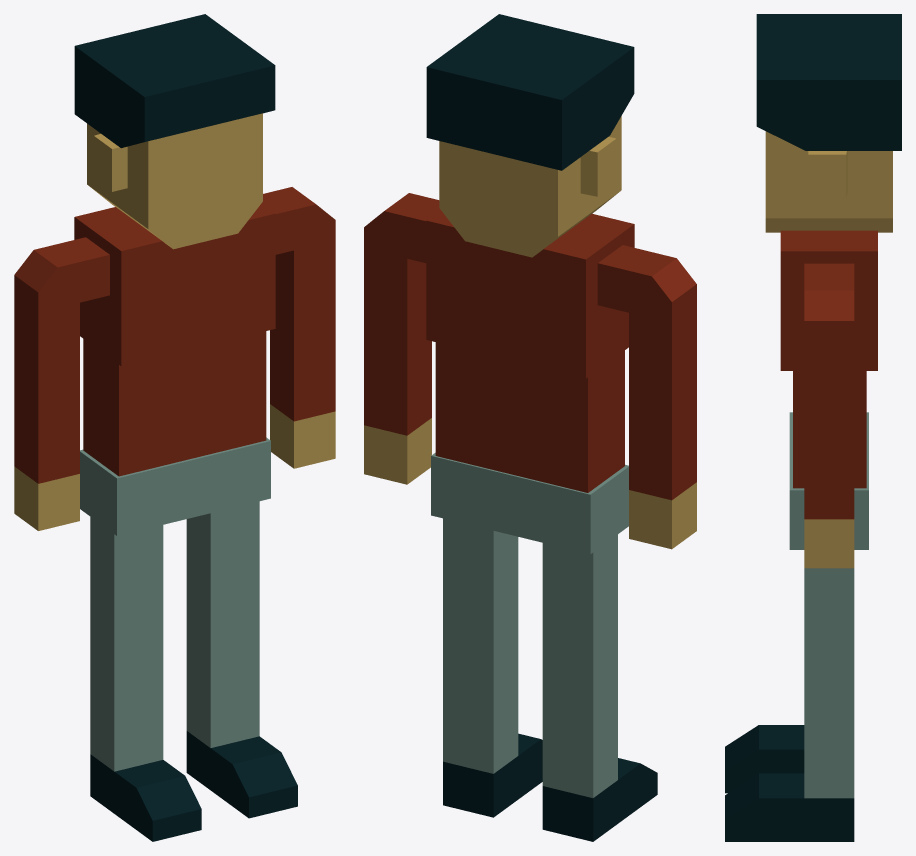
File: humanRig.fbx
3 renders of one model, left to right at view 1: azimuth 30°, elevation 25°; view 2: azimuth 150°, elevation 25°; view 3: azimuth 270°, elevation 25°, orthographic. The views are drawn at different scales.
Parts seen in each view (by area): view 1: head, chest, stomach, butt, l_upperarm, r_lowerleg, r_lowerleg1, l_forearm1, l_forearm, r_upperleg, l_upperarm1, r_upperleg1 (+2 smaller); view 2: head, chest, stomach, butt, l_upperarm, r_upperleg, r_lowerleg, r_upperleg1, l_forearm1, r_lowerleg1, l_forearm, l_upperarm1 (+2 smaller); view 3: head, l_upperarm1, chest, r_shoe, l_forearm, r_lowerleg, r_upperleg1, r_shoe1, stomach, butt.
Boxes of the visible parts, x1,y1,x2,y2 form: head: (74,14,275,249); chest: (74,203,275,366); stomach: (83,331,266,476); butt: (80,437,270,535); l_upperarm: (14,237,109,418); r_lowerleg: (186,608,259,747); r_lowerleg1: (90,632,163,771); l_forearm1: (14,381,79,530); l_forearm: (270,323,335,468); r_upperleg: (90,517,163,670); l_upperarm1: (261,187,335,355); r_upperleg1: (186,501,259,647); head: (426,14,634,257); chest: (426,210,634,378); stomach: (435,342,624,492); butt: (431,452,628,554); l_upperarm: (597,245,696,422); r_upperleg: (542,534,617,702); r_lowerleg: (443,629,518,773); r_upperleg1: (443,518,518,678); l_forearm1: (629,394,696,549); r_lowerleg1: (542,653,617,797); l_forearm: (364,337,431,484); l_upperarm1: (364,193,440,353); head: (756,14,901,232); l_upperarm1: (804,263,854,453); chest: (780,230,877,370); r_shoe: (725,773,854,841); l_forearm: (804,430,854,568); r_lowerleg: (804,671,854,798); r_upperleg1: (804,568,854,702); r_shoe1: (725,725,804,793); stomach: (793,371,866,488); butt: (789,412,868,549).
Bounding box in the file's own units: 238 × 559 × 118.
